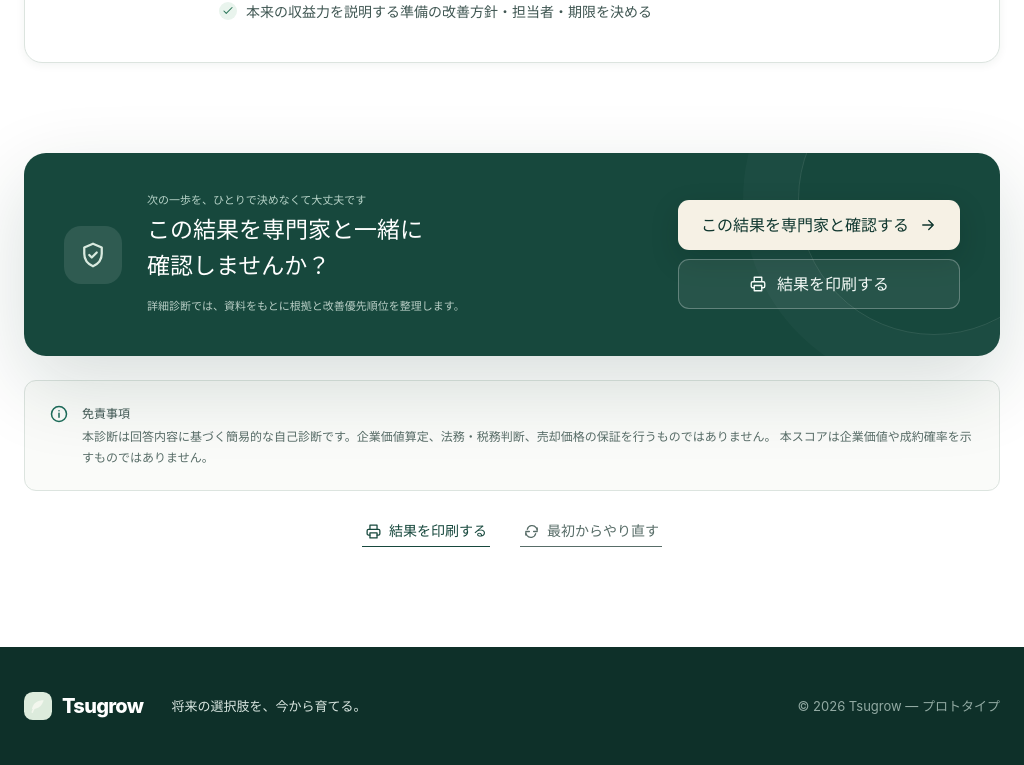
Test case: 診断UIの受け入れ条件 › 最初からやり直すと保存中の診断を消してランディングへ戻る
(page scrolled)
What coordinates should you click on to do the following:
click the button "最初からやり直す"
I would click on:
 (591, 532)
Its box is [520, 516, 662, 547].
(page scrolled)
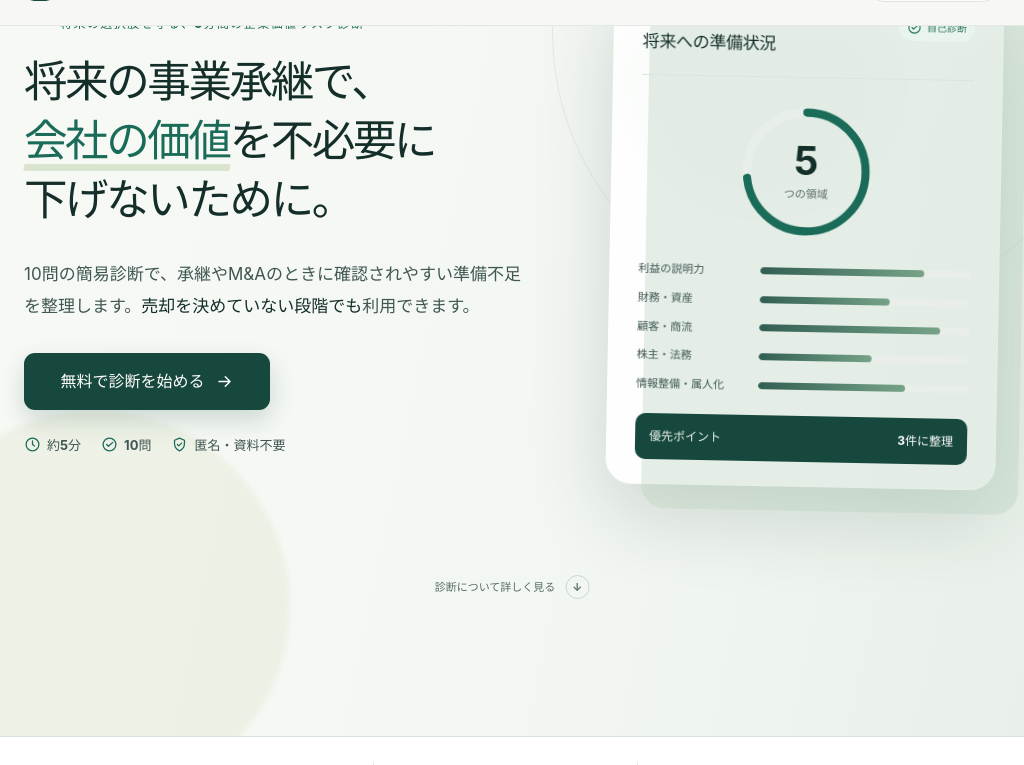
Expected: the button "無料で診断を始める" is shown, [24, 353, 270, 410]
